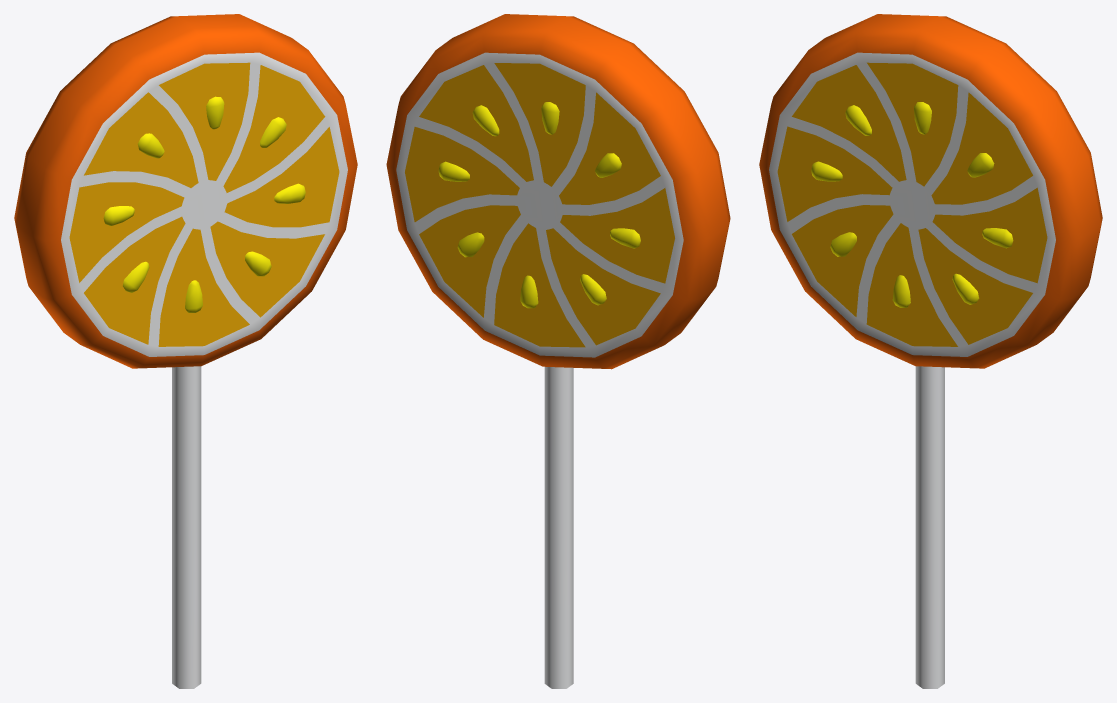
The model's file is lollipop_022.glb.
3 renders of one model, left to right at view 1: azimuth 30°, elevation 25°; view 2: azimuth 150°, elevation 25°; view 3: azimuth 330°, elevation 25°, orthographic.
Parts seen in each view (by area): view 1: lollipop_022; view 2: lollipop_022; view 3: lollipop_022.
Boxes of the visible parts, x1,y1,x2,y2 form: lollipop_022: [14, 14, 357, 688]; lollipop_022: [386, 14, 730, 688]; lollipop_022: [759, 14, 1102, 688].
Bounding box in the file's own units: 2.88 × 5.63 × 0.6702.
1 material, 1 textured.
